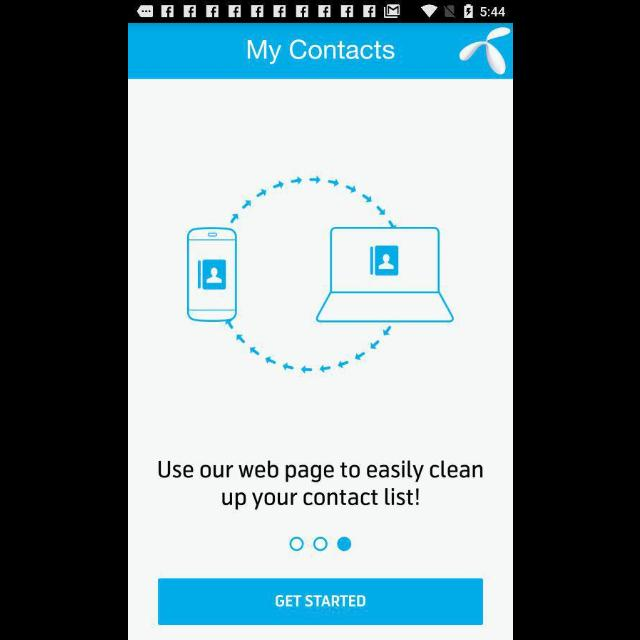image: (186, 176, 454, 374), (458, 27, 510, 75)
pageindicator: (288, 536, 352, 552)
text: (158, 460, 482, 510), (247, 40, 396, 66)
textbutton: (158, 578, 482, 626)
uppertaskbar: (128, 1, 512, 23)
